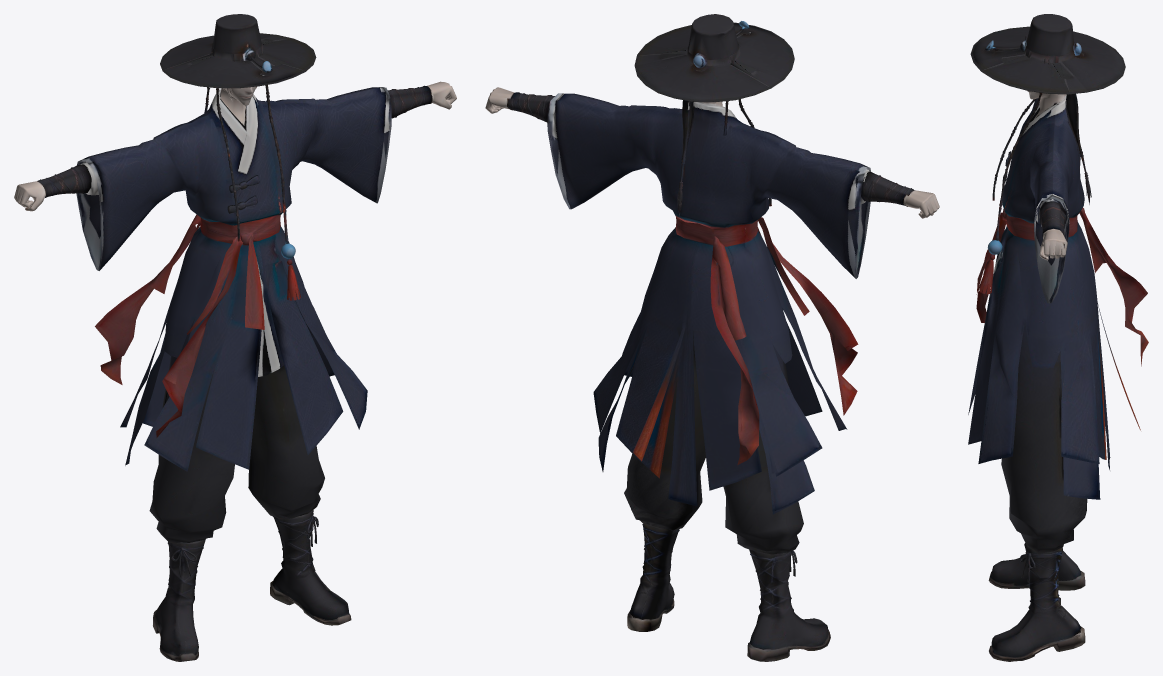
The model's file is doho_h1_tripo_p2_textured_1k_static_mixamo.fbx.
The picture shows the model from 3 angles, left to right: view 1: azimuth 30°, elevation 25°; view 2: azimuth 150°, elevation 25°; view 3: azimuth 270°, elevation 25°; orthographic projection. The views are drawn at different scales.
Visible parts, largest first — view 1: tripo_node_1236e1f3; view 2: tripo_node_1236e1f3; view 3: tripo_node_1236e1f3.
Part boxes in pixels (left/top/right/bottom): tripo_node_1236e1f3: left=14, top=14, right=456, bottom=661; tripo_node_1236e1f3: left=485, top=14, right=939, bottom=661; tripo_node_1236e1f3: left=968, top=14, right=1148, bottom=661.
Bounding box in the file's own units: 0.7583 × 0.9995 × 0.2739.
1 material, 1 textured.
